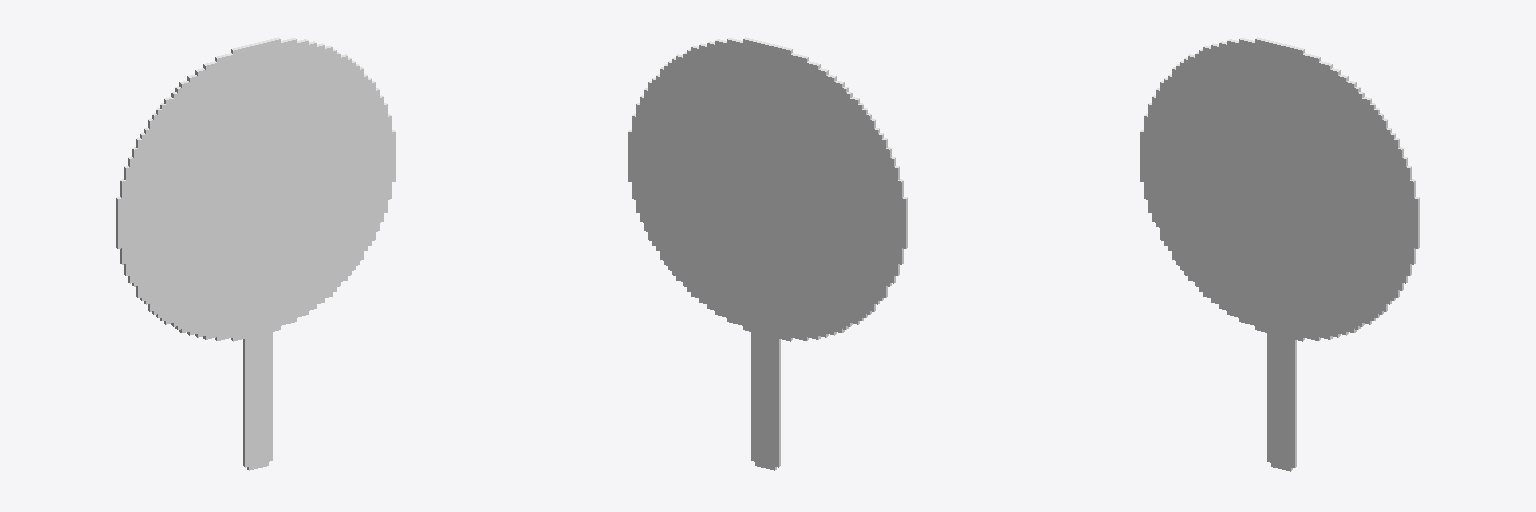
Rendered from poi2.obj.
The picture shows the model from 3 angles: view 1: azimuth 30°, elevation 25°; view 2: azimuth 150°, elevation 25°; view 3: azimuth 330°, elevation 25°; orthographic projection.
Parts seen in each view (by area): view 1: object 1; view 2: object 1; view 3: object 1.
Part boxes in pixels (x1,y1,x2,y2): object 1: (116,37,395,470); object 1: (628,37,907,470); object 1: (1140,37,1419,471).
Bounding box in the file's own units: 7 × 10.2 × 0.1.